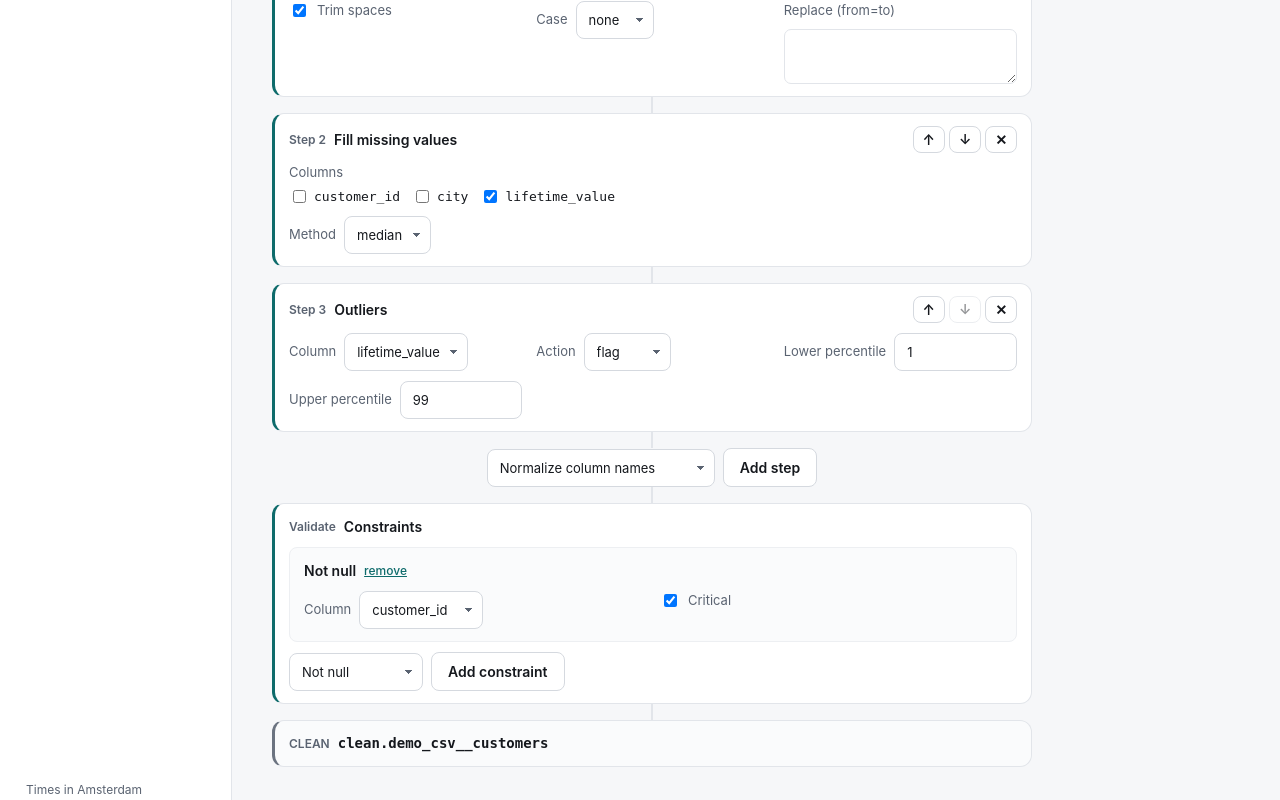
Test: the pipeline builder › refuses to save an invalid parameter with a message naming the step and the field
(page scrolled)
Check: the element named "Step 3 · Outliers" is shown, box [272,283,1032,432]
Replace the text in the number field labelled "Upper percentile" with "150": (461, 400) [400,381,522,419]
(page scrolled)
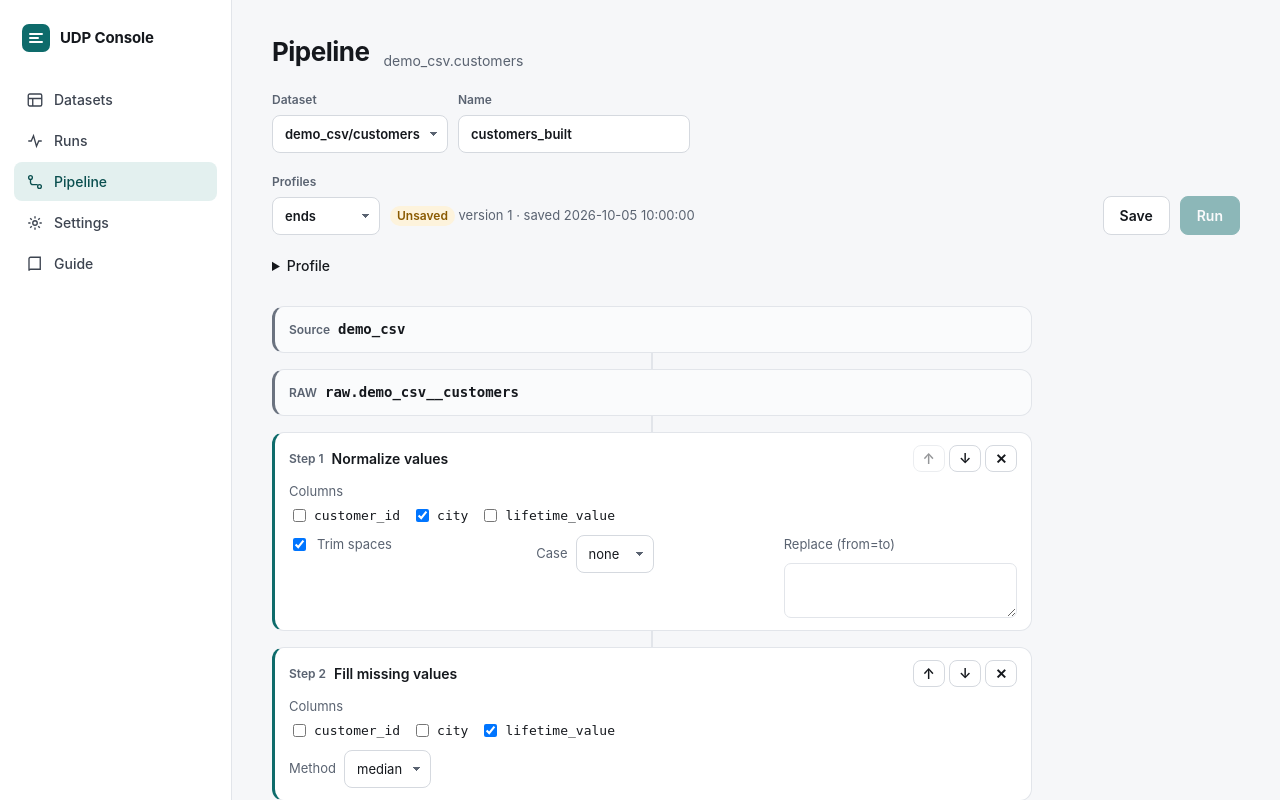
Click the button "Save": (1136, 216) [1103,196,1170,235]
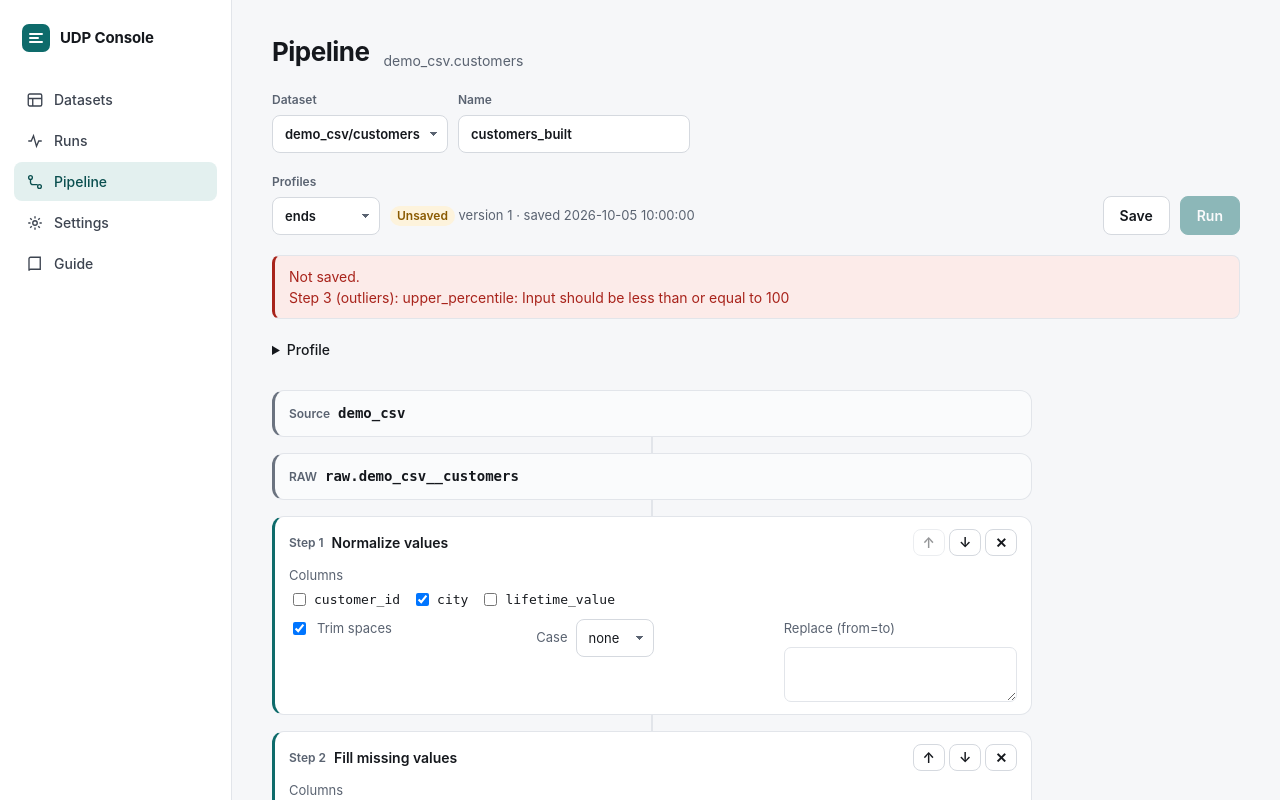
Check: the text "unsaved" is shown, box [390,206,455,226]
Check: the message shows "Step 3 (outliers): upper_percentile: Input should be less than or equal to 100", box [272,255,1240,319]
Check: the message shows "Not saved.", box [289,268,360,285]
